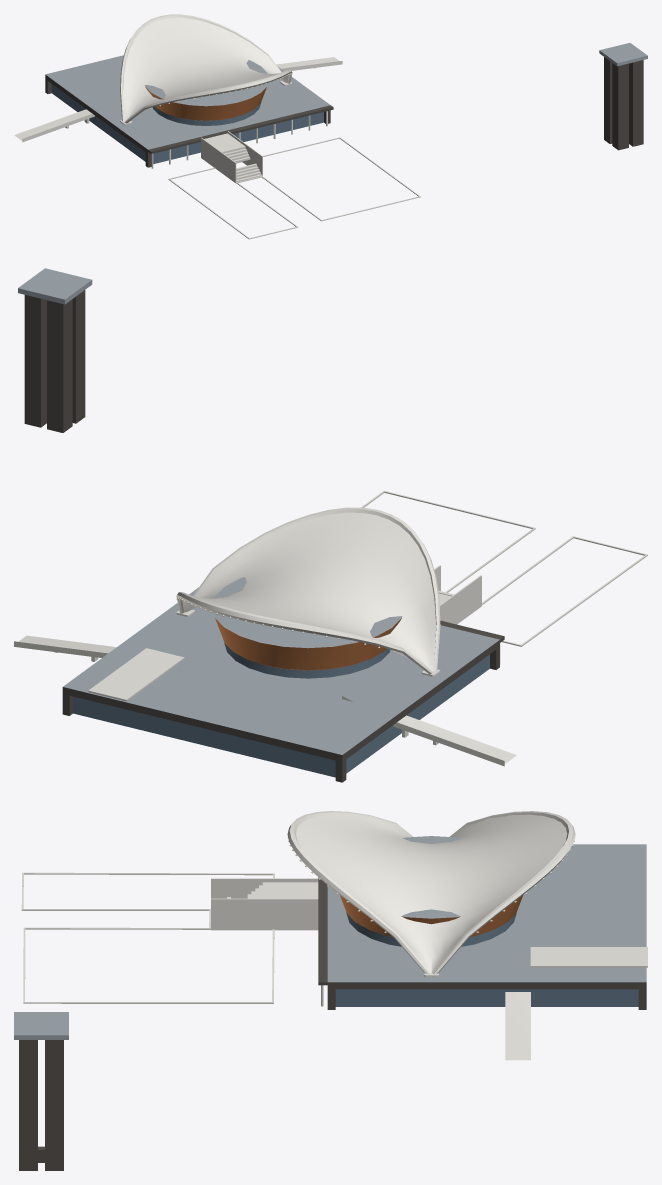
Rendered from berlin-haus-der-kulturen.glb.
3 views of the same model, one above another, from view 1: azimuth 30°, elevation 25°; view 2: azimuth 150°, elevation 25°; view 3: azimuth 270°, elevation 25° (orthographic). The views are drawn at different scales.
Visible parts, largest first — view 1: Haus der Kulturen der Welt; view 2: Haus der Kulturen der Welt; view 3: Haus der Kulturen der Welt.
Boxes of the visible parts, x1,y1,x2,y2 form: Haus der Kulturen der Welt: (14,14,647,239); Haus der Kulturen der Welt: (14,268,647,782); Haus der Kulturen der Welt: (14,811,647,1170).
Size of the model in its own units: 230 by 42 by 175.
